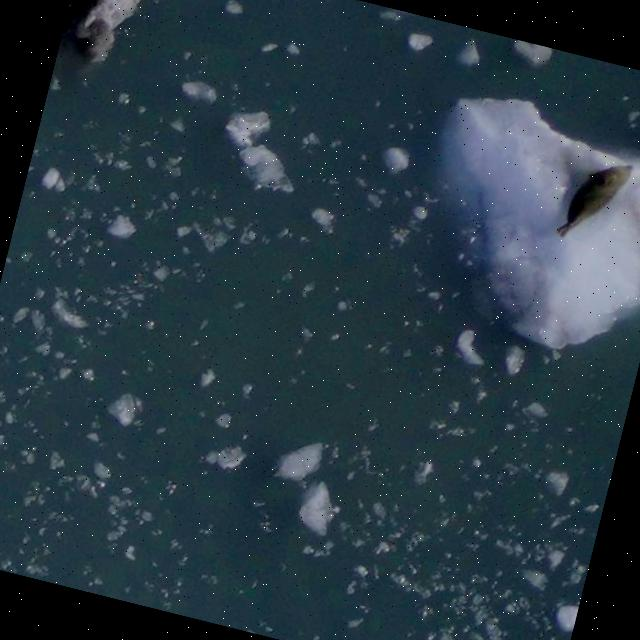seal: (545, 144, 639, 248)
